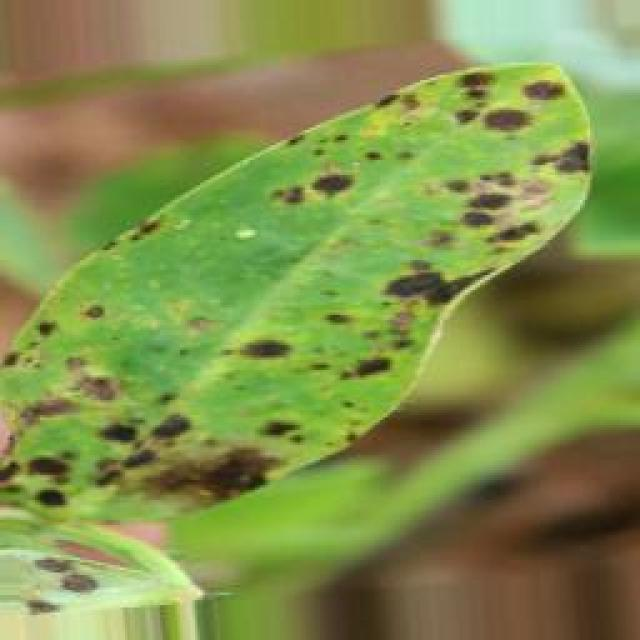Yellowish: (0, 52, 576, 612)
